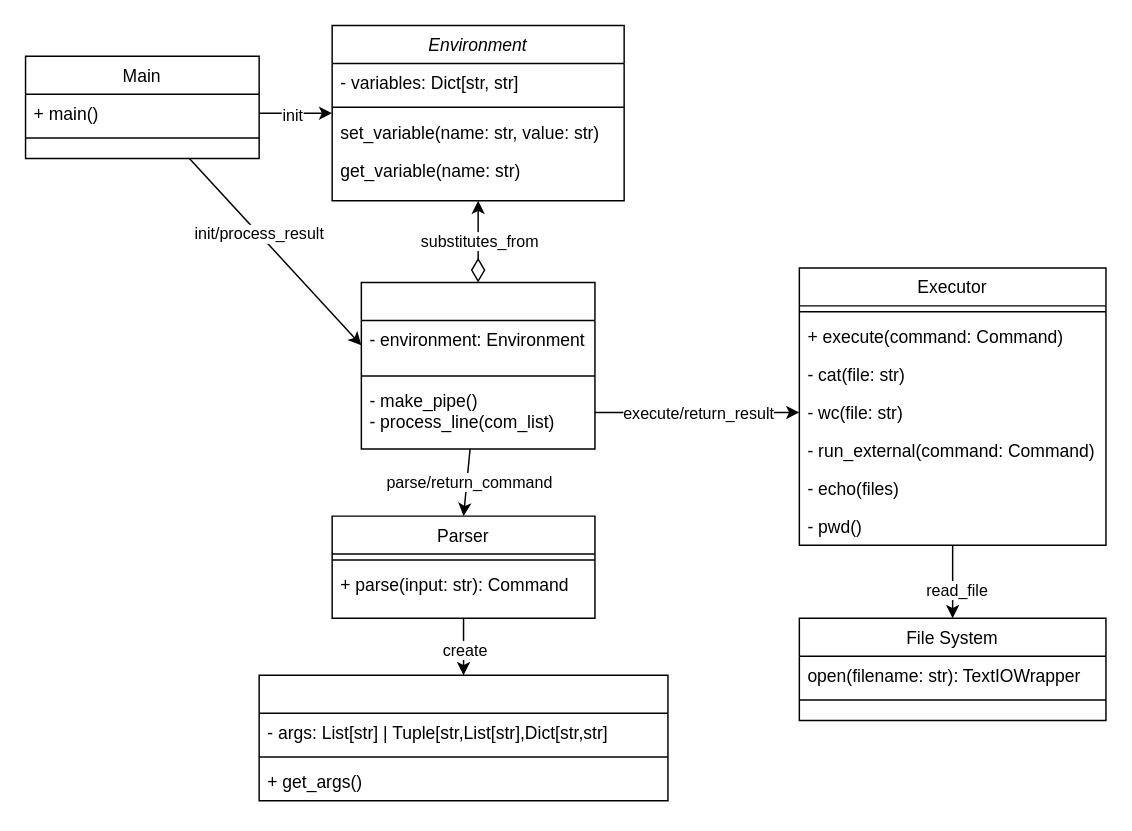
The diagram is 1132 pixels wide and 831 high, and some of its shapes have lost their labels. The shapes that lost their labels are listed below. From the top down, each one's box as (x1, y1, x2, y2) in pixels, then its label:
(360, 281, 595, 449): Process Manager
(258, 674, 668, 801): Command
